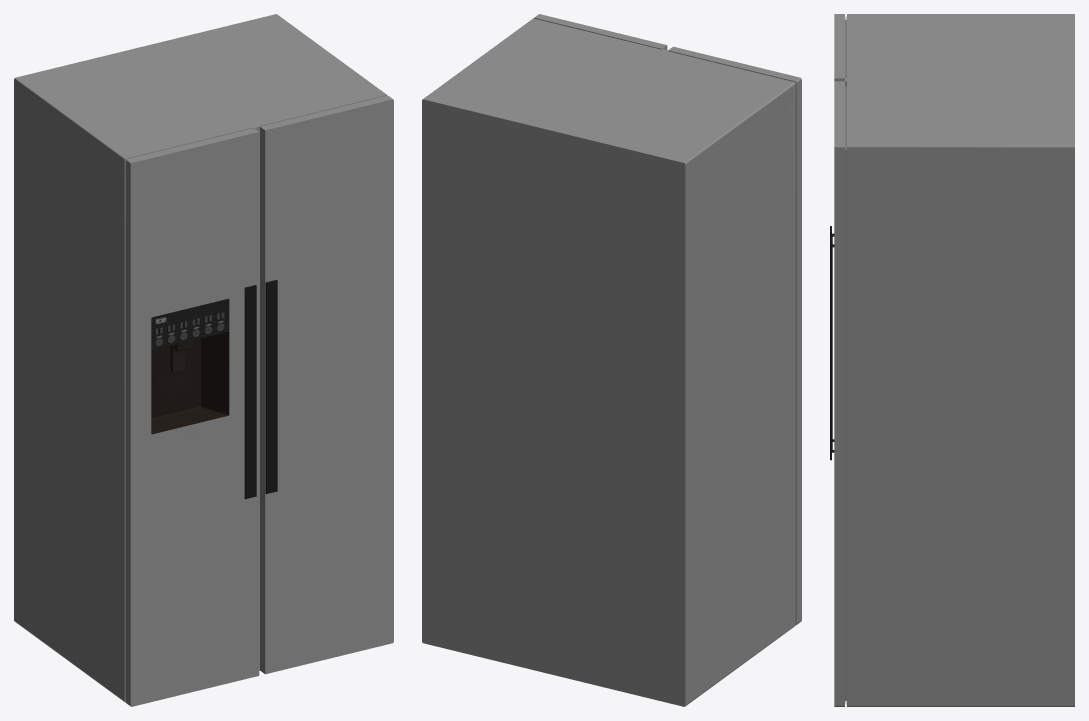
Rendered from fridge.glb.
3 renders of one model, left to right at view 1: azimuth 30°, elevation 25°; view 2: azimuth 150°, elevation 25°; view 3: azimuth 270°, elevation 25°, orthographic. The views are drawn at different scales.
Visible parts, largest first — view 1: fridge; view 2: fridge; view 3: fridge.
Boxes of the visible parts, x1,y1,x2,y2 form: fridge: (14, 14, 393, 706); fridge: (422, 14, 801, 706); fridge: (830, 14, 1074, 706).
Bounding box in the file's own units: 0.9834 × 1.94 × 0.7676.
1 material, 1 textured.
